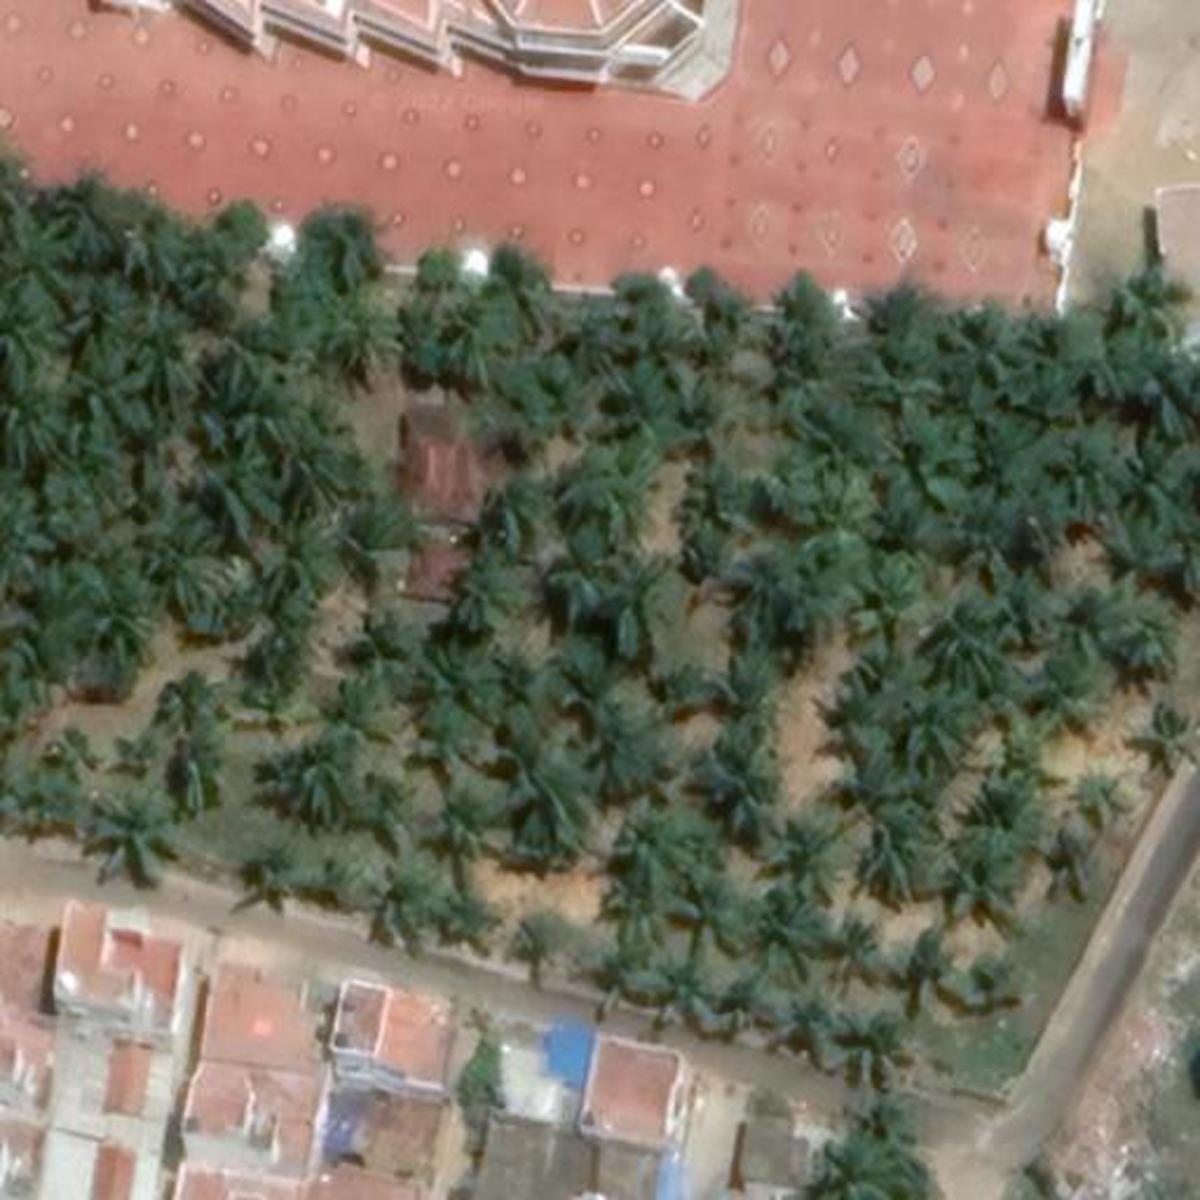coconut: (829, 644, 935, 766), (192, 421, 300, 532), (935, 816, 1031, 935), (930, 471, 1040, 571), (571, 427, 670, 538), (853, 801, 958, 904), (431, 292, 532, 398), (785, 473, 895, 567), (571, 700, 675, 799), (600, 562, 700, 660), (693, 724, 792, 820), (75, 335, 168, 435), (838, 555, 937, 646), (726, 548, 825, 637), (698, 618, 796, 707), (276, 740, 377, 825), (1096, 513, 1195, 600), (938, 309, 1040, 393), (921, 597, 1012, 689), (7, 213, 91, 311), (813, 1122, 927, 1192), (86, 801, 189, 878), (77, 567, 166, 656), (412, 638, 508, 721), (468, 471, 569, 548), (501, 745, 592, 827), (1099, 597, 1192, 677), (762, 825, 860, 900), (632, 956, 727, 1033), (447, 546, 532, 632), (862, 337, 944, 424), (553, 637, 642, 716), (370, 869, 462, 946), (689, 462, 768, 548), (1122, 442, 1195, 534), (768, 989, 848, 1068), (616, 820, 707, 890), (1134, 337, 1200, 433), (667, 878, 762, 944), (892, 693, 975, 766), (330, 300, 405, 377), (419, 785, 496, 860), (754, 890, 834, 963), (1012, 658, 1095, 724), (114, 225, 192, 290), (1127, 700, 1200, 768), (0, 386, 70, 454), (848, 1019, 921, 1085), (825, 902, 885, 982), (162, 677, 232, 742), (1040, 841, 1108, 892), (4, 309, 56, 367)
